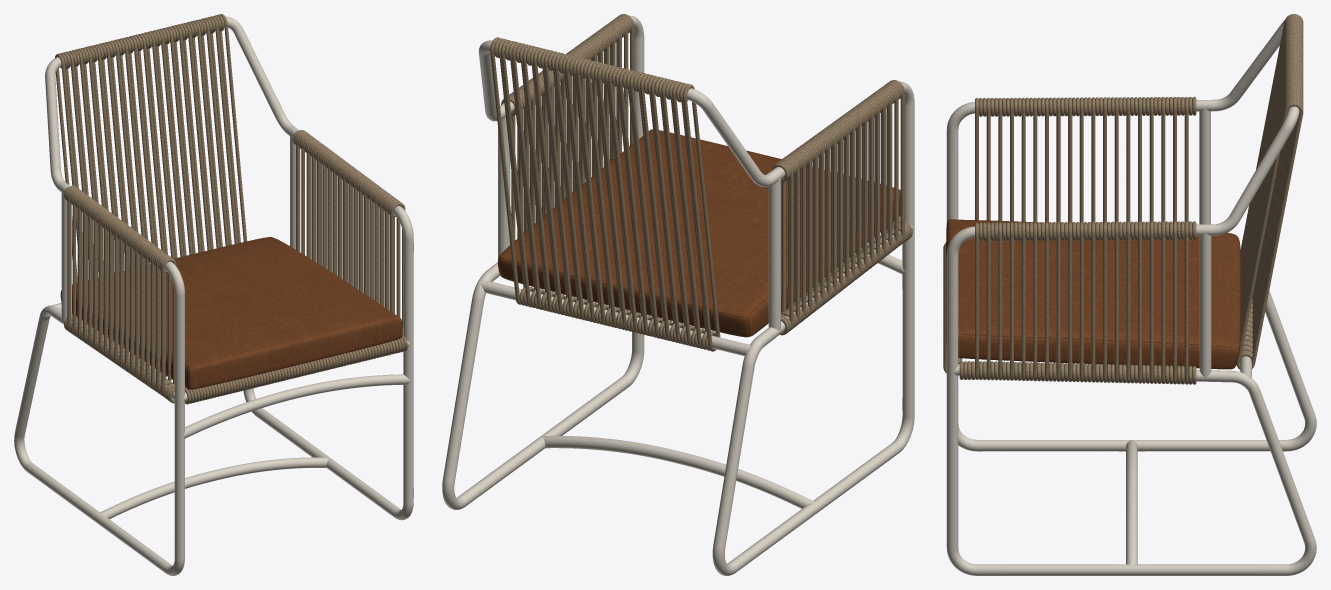
The model's file is chair-1.glb.
3 views of the same model, side by side, from view 1: azimuth 30°, elevation 25°; view 2: azimuth 150°, elevation 25°; view 3: azimuth 270°, elevation 25° (orthographic). The views are drawn at different scales.
Parts seen in each view (by area): view 1: 9062, 9062.001, 9062.002; view 2: 9062, 9062.002, 9062.001; view 3: 9062, 9062.002, 9062.001.
Part boxes in pixels (x1,y1,x2,y2): 9062: [55, 14, 407, 404]; 9062.001: [60, 237, 402, 389]; 9062.002: [14, 16, 413, 575]; 9062: [490, 14, 912, 351]; 9062.002: [442, 15, 914, 575]; 9062.001: [498, 129, 900, 337]; 9062: [943, 14, 1303, 384]; 9062.002: [946, 20, 1316, 575]; 9062.001: [946, 219, 1240, 369].
Bounding box in the file's own units: 51.24 × 81.93 × 60.98.
Materials: 3 (2 with a texture image).
